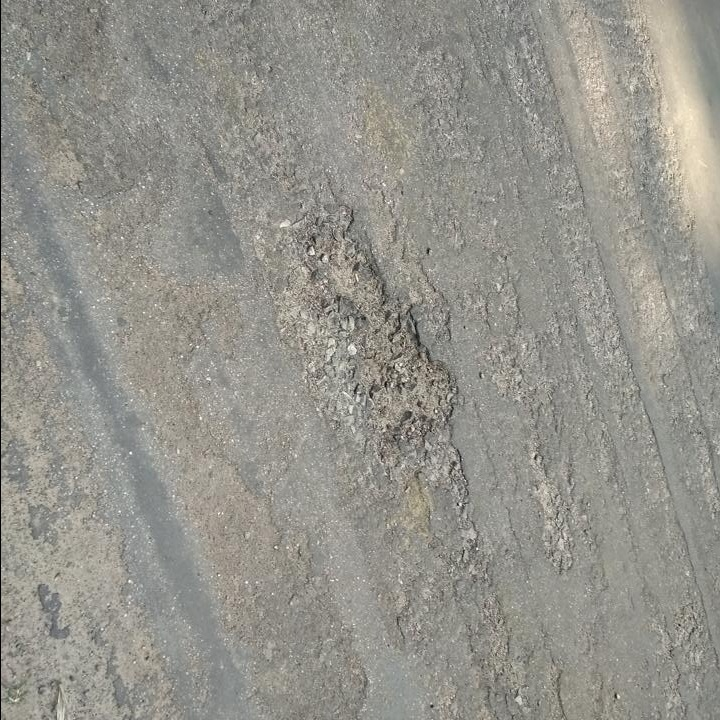pothole: (295, 202, 466, 451), (527, 447, 576, 573)
